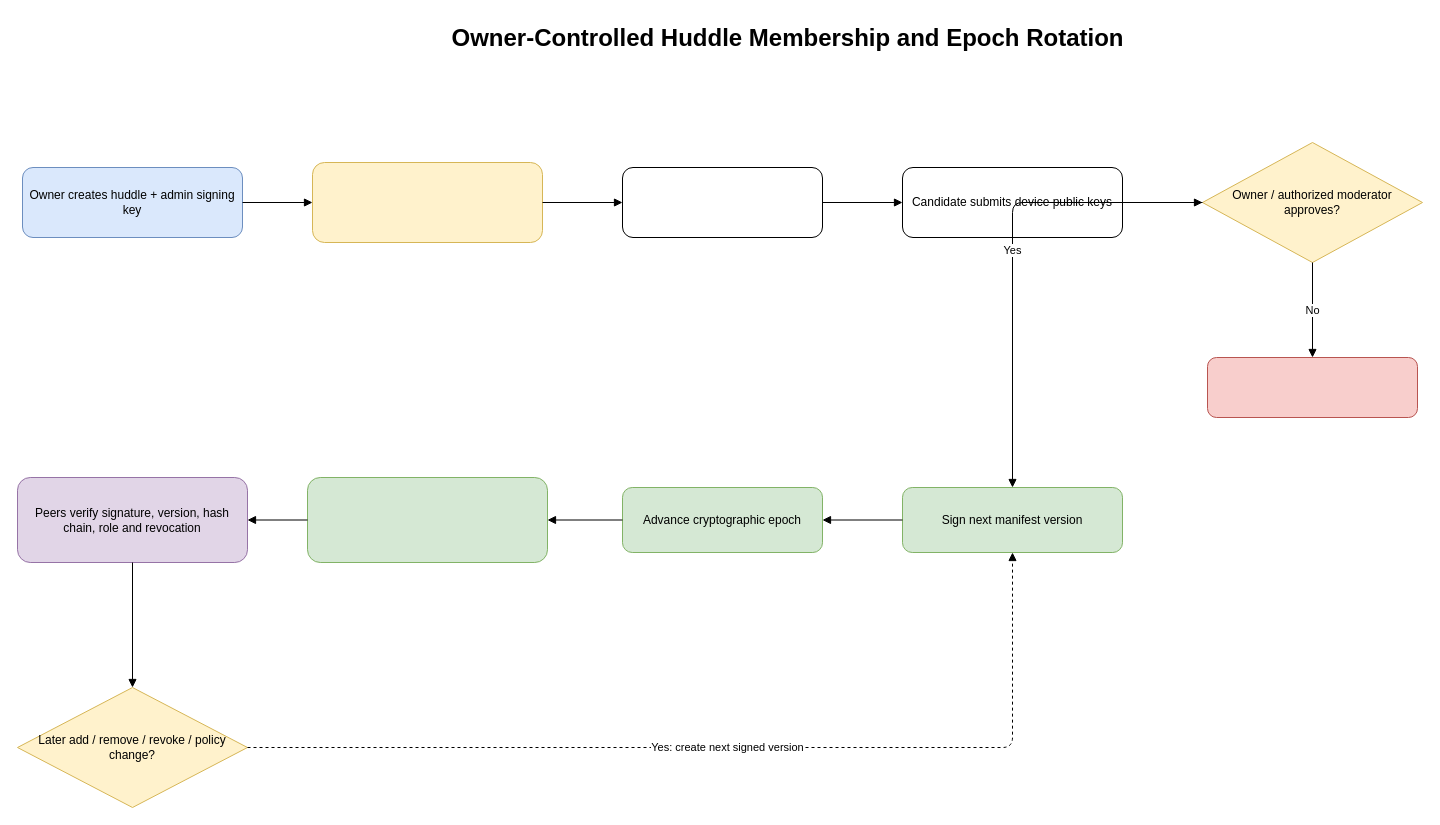
The diagram is 1440 pixels wide and 825 high, and some of its shapes have lost their labels. Each missing label, with the box of its shape:
Distribute epoch state only to currently authorized devices: (306, 476, 548, 562)
Reject + expire invitation: (1206, 356, 1418, 418)
Signed expiring invitation: (622, 166, 822, 238)
Signed manifest v1 Membership • roles • policy • epoch: (312, 162, 542, 242)
